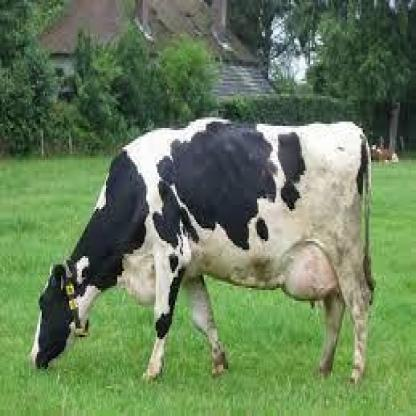cow: (27, 116, 376, 385)
